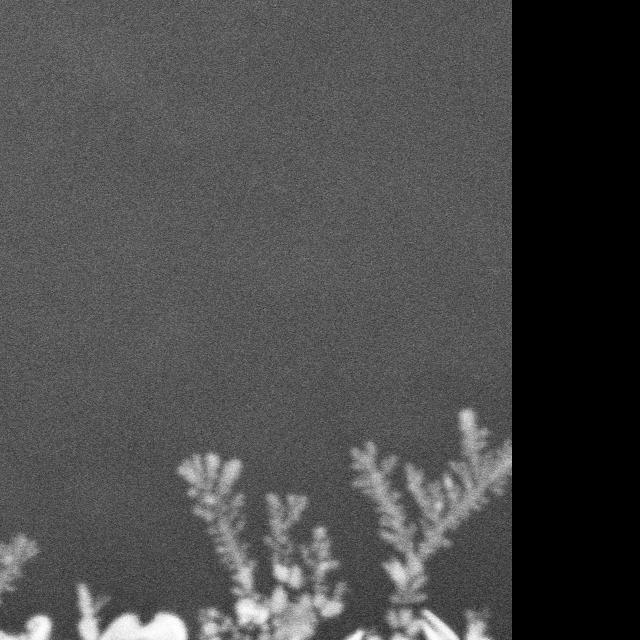Dendrite: (0, 453, 345, 640), (329, 409, 511, 640)
